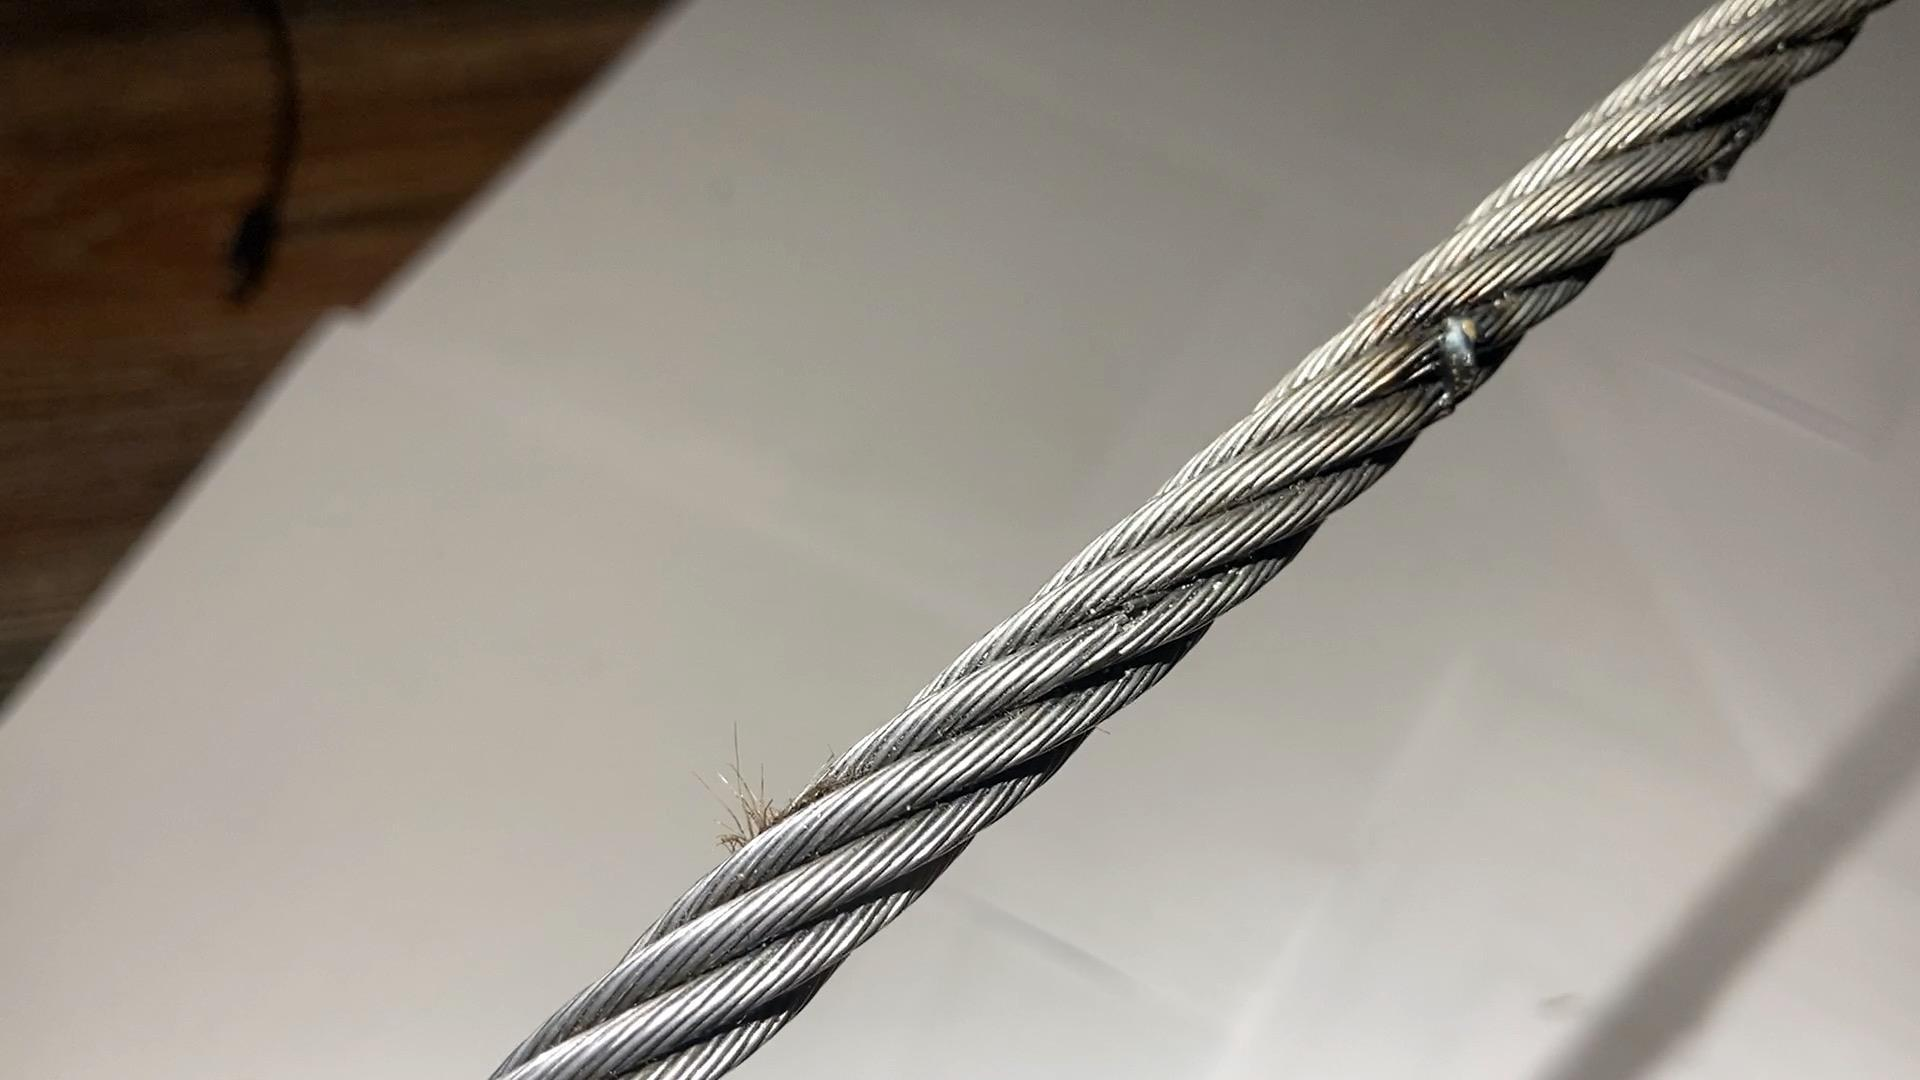thunderbolt: (1408, 301, 1503, 384)
